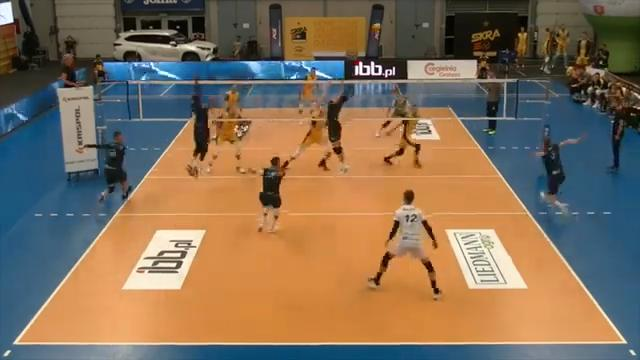alzata: (312, 75, 355, 176)
